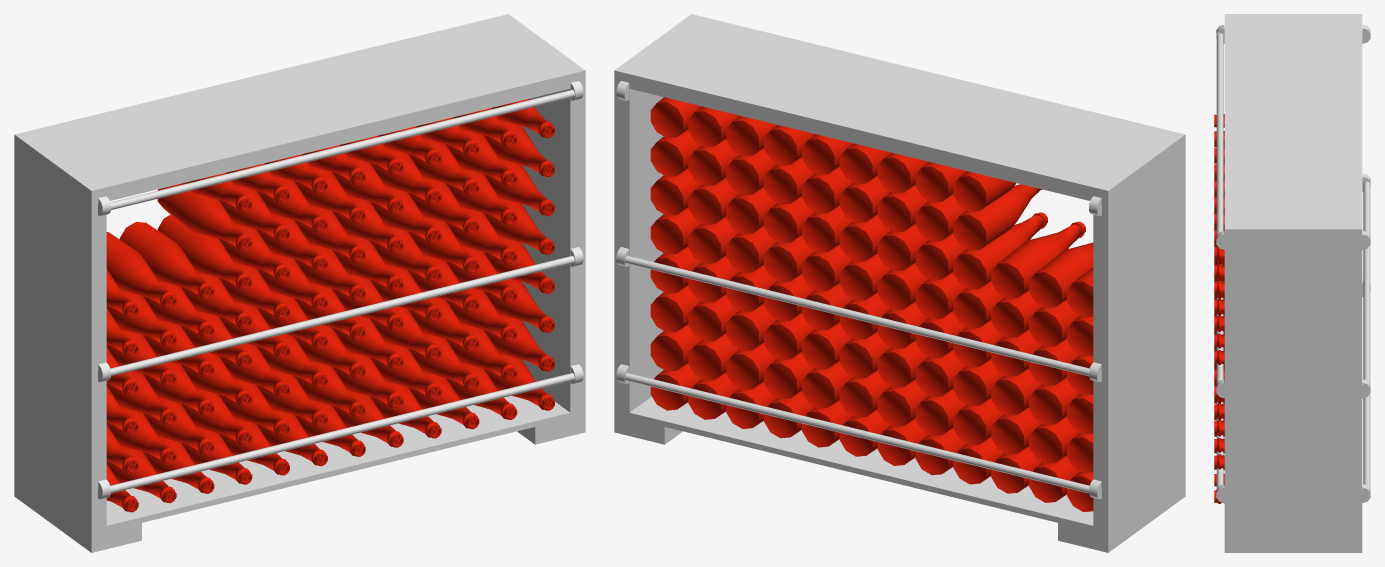
File: 3D_Pallette_Hole.fbx
The picture shows the model from 3 angles, left to right: view 1: azimuth 30°, elevation 25°; view 2: azimuth 150°, elevation 25°; view 3: azimuth 270°, elevation 25°; orthographic projection. The views are drawn at different scales.
Visible parts, largest first — view 1: Pallette; view 2: Pallette; view 3: Pallette.
Boxes of the visible parts, <box> form: Pallette: <box>14,14,585,552</box>; Pallette: <box>614,14,1185,552</box>; Pallette: <box>1214,14,1370,552</box>.
Bounding box in the file's own units: 1.48 × 1.04 × 0.4539.
